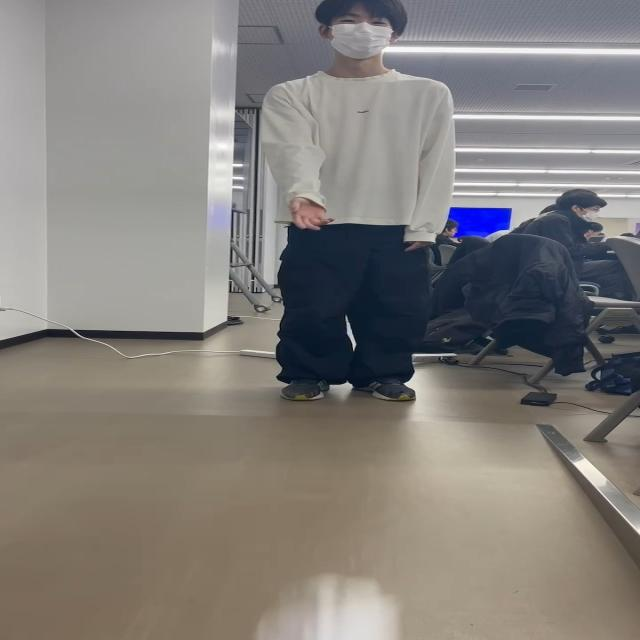paper: (253, 572, 412, 640)
